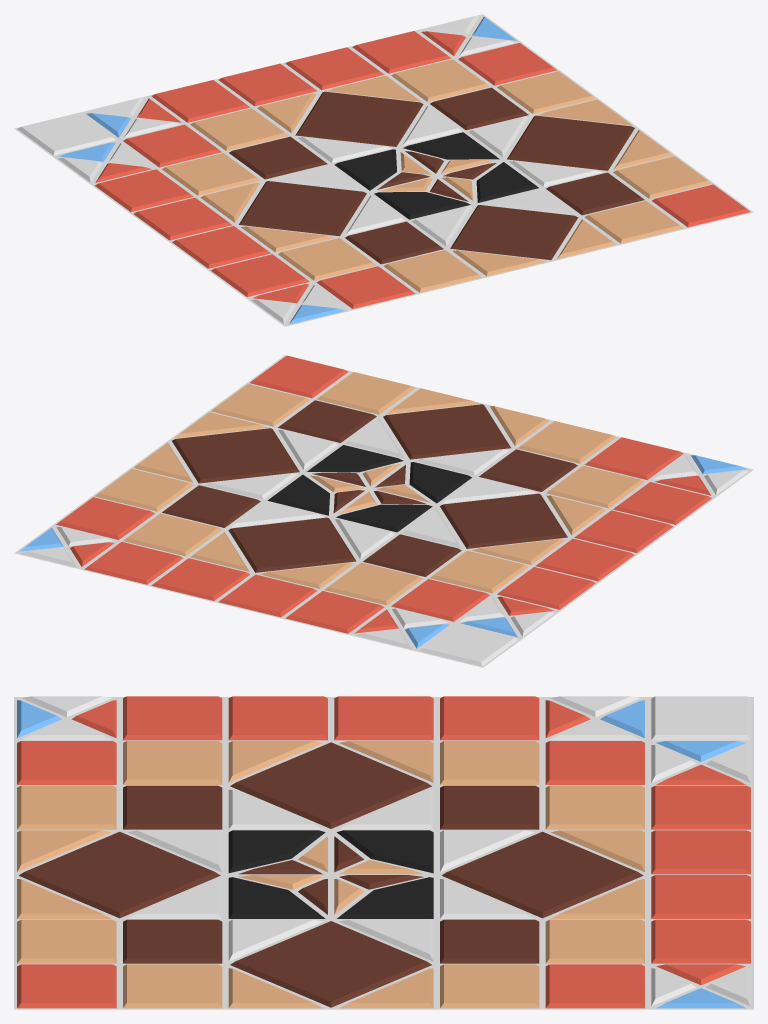
File: tile_pattern_1.fbx
3 renders of one model, top to bottom at view 1: azimuth 30°, elevation 25°; view 2: azimuth 150°, elevation 25°; view 3: azimuth 270°, elevation 25°, orthographic. The views are drawn at different scales.
Parts seen in each view (by area): view 1: Plane; view 2: Plane; view 3: Plane.
Part boxes in pixels (x1,y1,x2,y2): Plane: (14,14,753,326); Plane: (14,355,753,667); Plane: (14,696,753,1009).
Size of the model in its own units: 200 by 1.09 by 200.
